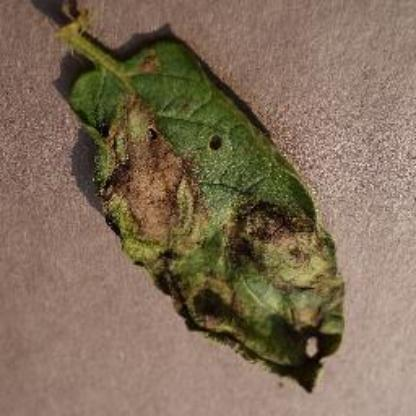Late-Blight: (44, 12, 358, 394)
